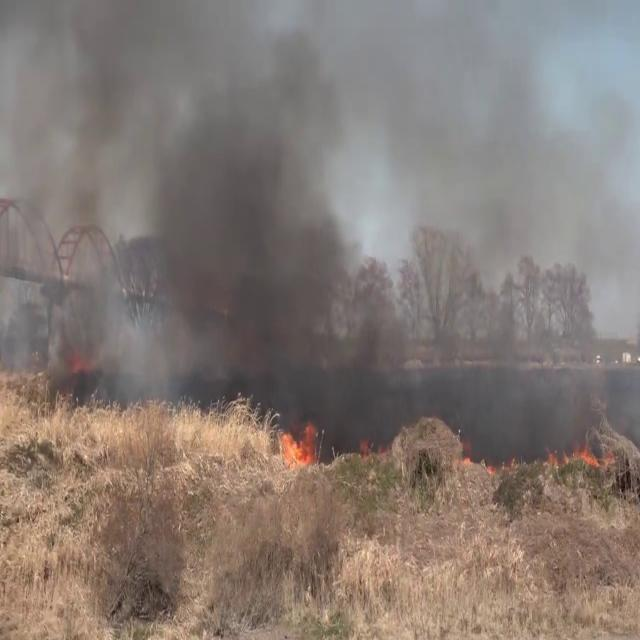Fire: (274, 413, 320, 469)
Smoke: (1, 0, 640, 470)
